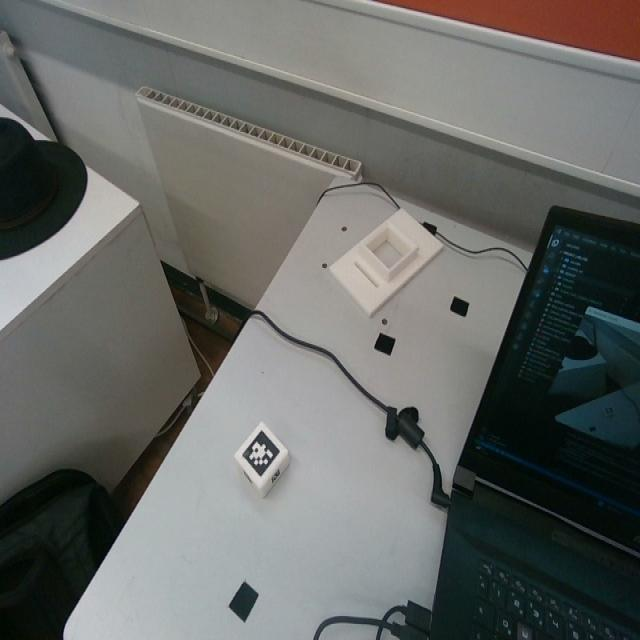Cube: (235, 420, 291, 499)
